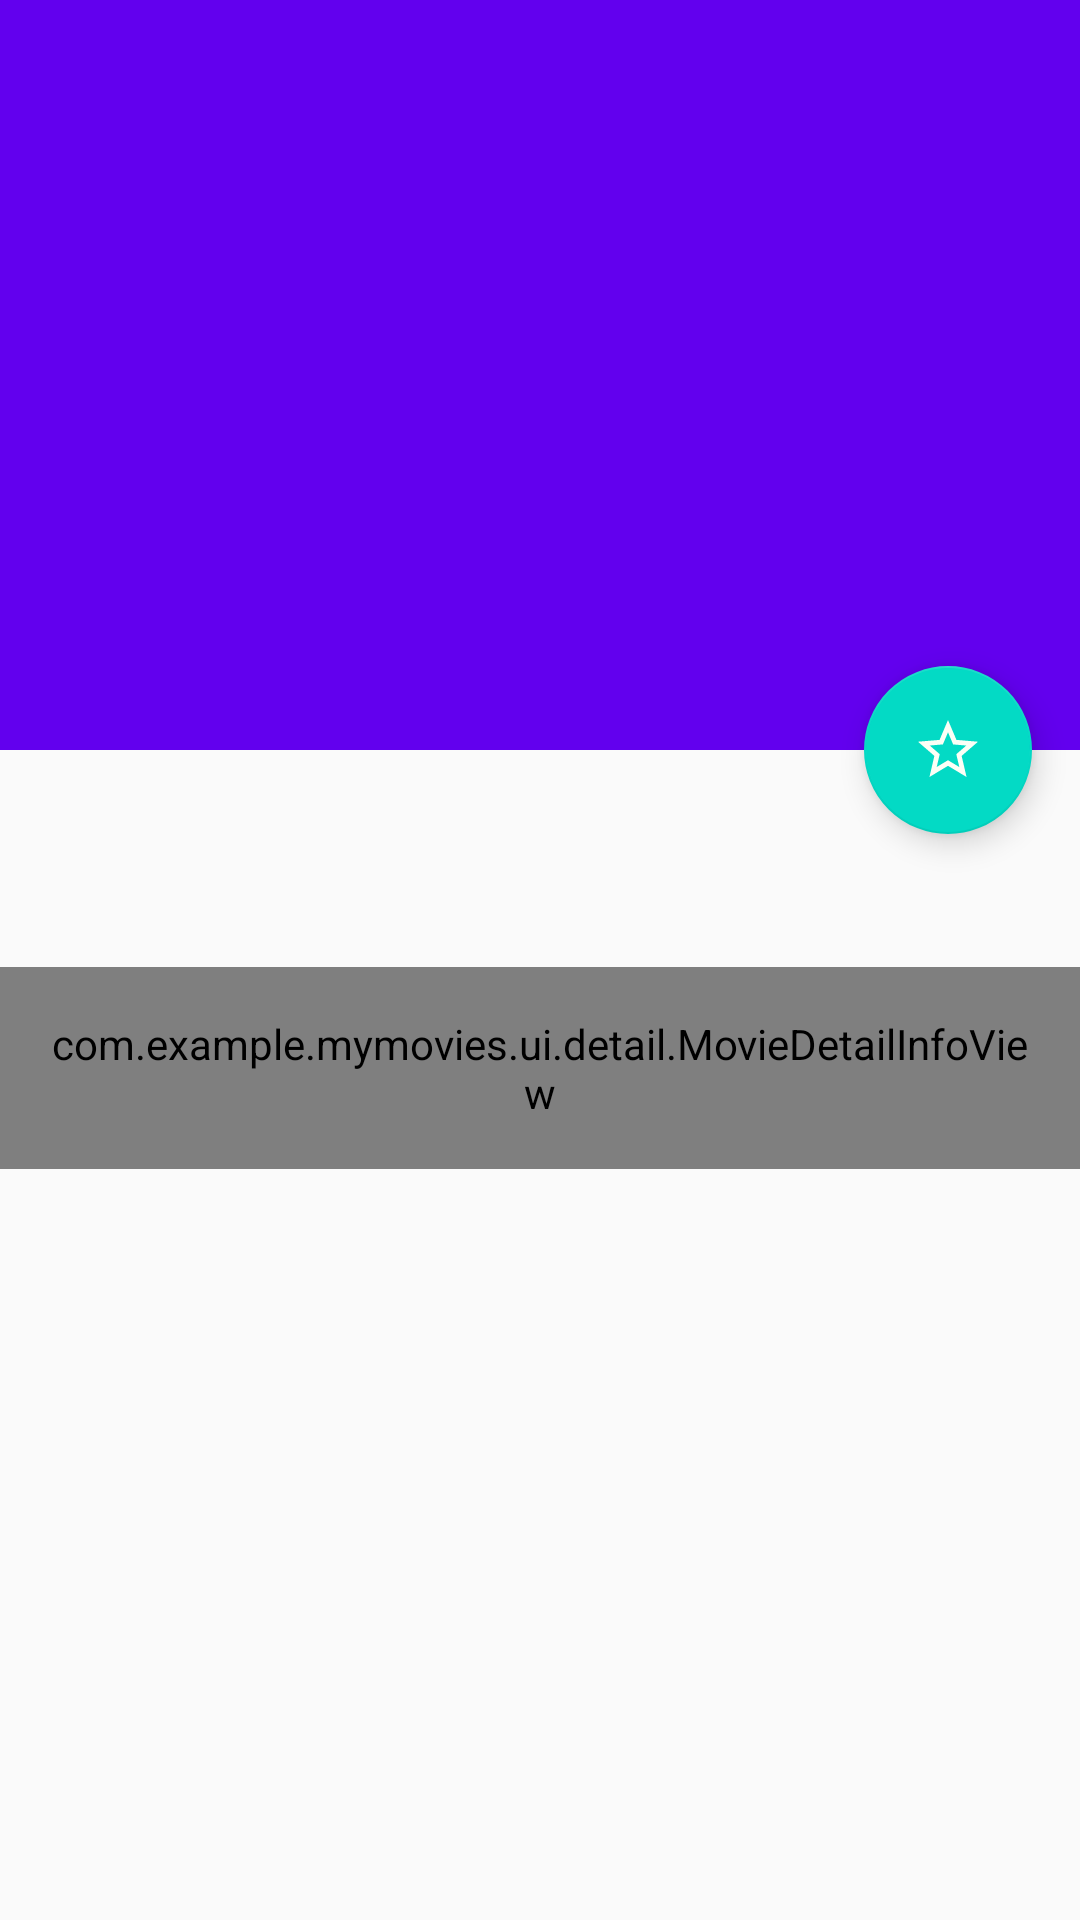

Where to tap for icons on this 1080 × 1920 app screen, as (x,y):
Button for mark movie as favourite: (948,750)
